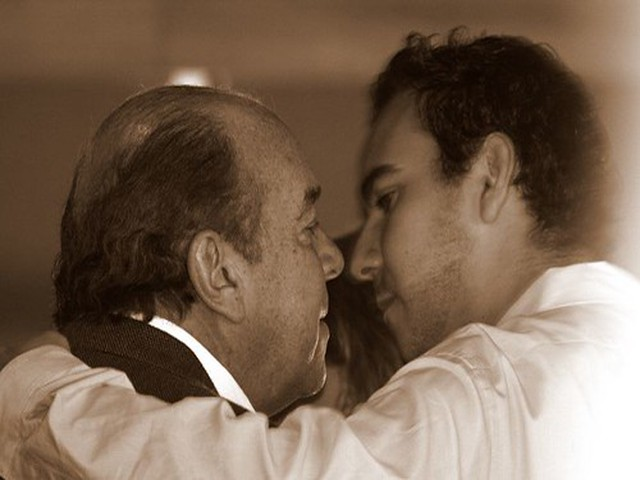Person: (10, 27, 640, 462)
